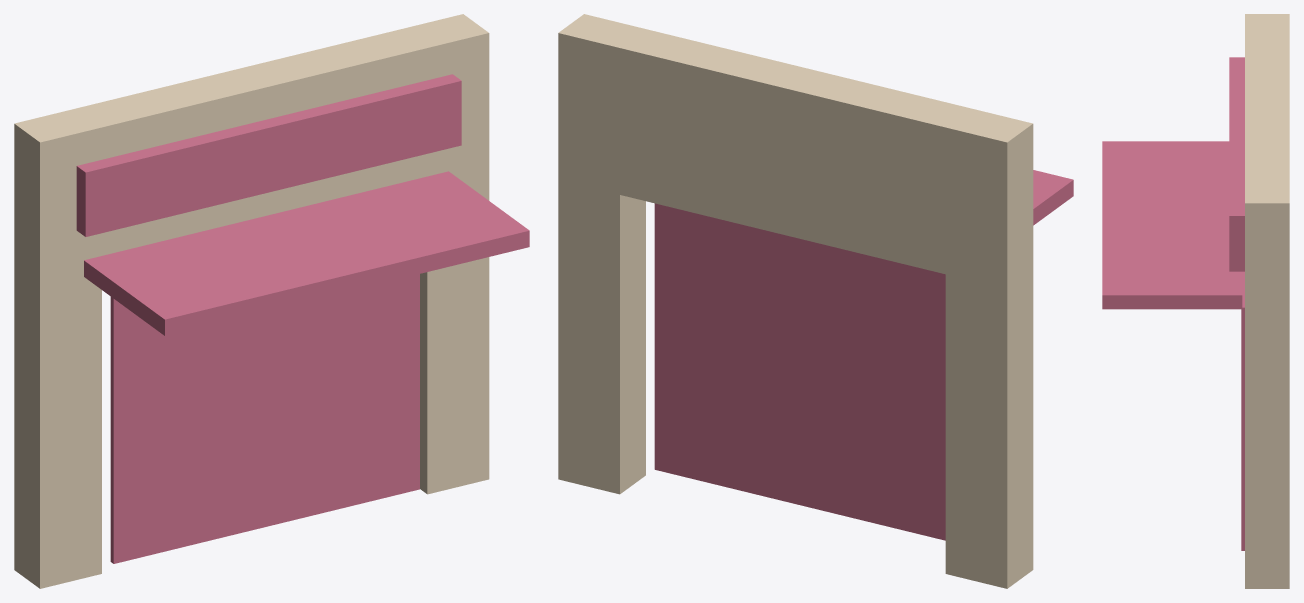
The model's file is bh_souq_shop_cafe_01_lod0.glb.
3 views of the same model, side by side, from view 1: azimuth 30°, elevation 25°; view 2: azimuth 150°, elevation 25°; view 3: azimuth 270°, elevation 25° (orthographic). The views are drawn at different scales.
Visible parts, largest first — view 1: bh_souq_shop_cafe_01_infill, bh_souq_shop_cafe_01_left, bh_souq_shop_cafe_01_awning, bh_souq_shop_cafe_01_fascia, bh_souq_shop_cafe_01_top, bh_souq_shop_cafe_01_right; view 2: bh_souq_shop_cafe_01_infill, bh_souq_shop_cafe_01_top, bh_souq_shop_cafe_01_left, bh_souq_shop_cafe_01_right, bh_souq_shop_cafe_01_awning; view 3: bh_souq_shop_cafe_01_awning, bh_souq_shop_cafe_01_right, bh_souq_shop_cafe_01_top, bh_souq_shop_cafe_01_fascia, bh_souq_shop_cafe_01_left, bh_souq_shop_cafe_01_infill.
Boxes of the visible parts, box(x1,y1,x2,y2) form: bh_souq_shop_cafe_01_infill: box(110, 274, 419, 563); bh_souq_shop_cafe_01_left: box(14, 108, 101, 588); bh_souq_shop_cafe_01_awning: box(84, 171, 529, 335); bh_souq_shop_cafe_01_fascia: box(76, 74, 461, 236); bh_souq_shop_cafe_01_top: box(76, 29, 427, 255); bh_souq_shop_cafe_01_right: box(402, 14, 489, 494); bh_souq_shop_cafe_01_infill: box(654, 203, 945, 540); bh_souq_shop_cafe_01_top: box(620, 29, 970, 274); bh_souq_shop_cafe_01_left: box(945, 108, 1033, 588); bh_souq_shop_cafe_01_right: box(558, 14, 645, 494); bh_souq_shop_cafe_01_awning: box(1033, 170, 1073, 225); bh_souq_shop_cafe_01_awning: box(1102, 141, 1242, 309); bh_souq_shop_cafe_01_right: box(1245, 177, 1289, 588); bh_souq_shop_cafe_01_top: box(1245, 40, 1289, 177); bh_souq_shop_cafe_01_fascia: box(1229, 57, 1244, 271); bh_souq_shop_cafe_01_left: box(1245, 14, 1289, 39); bh_souq_shop_cafe_01_infill: box(1241, 271, 1244, 550).
Bounding box in the file's own units: 4 × 3.8 × 1.68.
